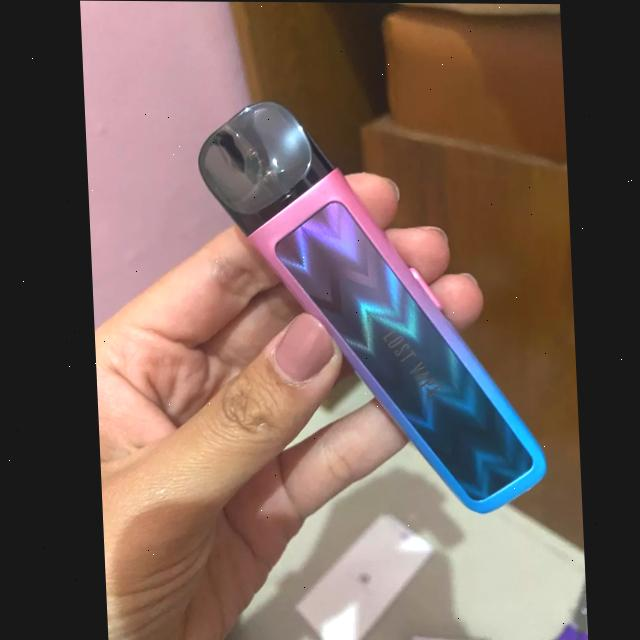vape: (192, 97, 547, 515)
